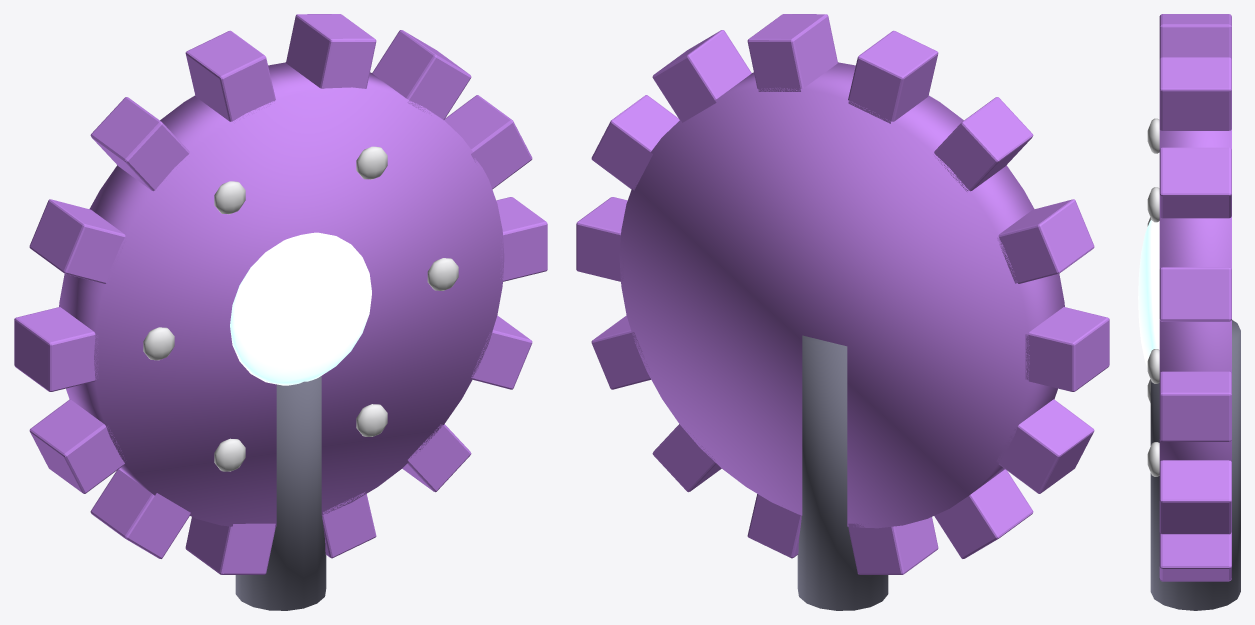
File: G06_Enzyme_Gear.glb
3 views of the same model, side by side, from view 1: azimuth 30°, elevation 25°; view 2: azimuth 150°, elevation 25°; view 3: azimuth 270°, elevation 25° (orthographic).
Visible parts, largest first — view 1: G06_Rotor_Mesh, G06_Post; view 2: G06_Rotor_Mesh, G06_Post; view 3: G06_Rotor_Mesh, G06_Post.
Boxes of the visible parts, x1,y1,x2,y2 form: G06_Rotor_Mesh: (14, 14, 547, 574); G06_Post: (235, 376, 326, 610); G06_Rotor_Mesh: (576, 14, 1109, 574); G06_Post: (797, 335, 888, 610); G06_Rotor_Mesh: (1138, 14, 1231, 581); G06_Post: (1150, 320, 1240, 610).
Bounding box in the file's own units: 3.16 × 3.37 × 0.57.
